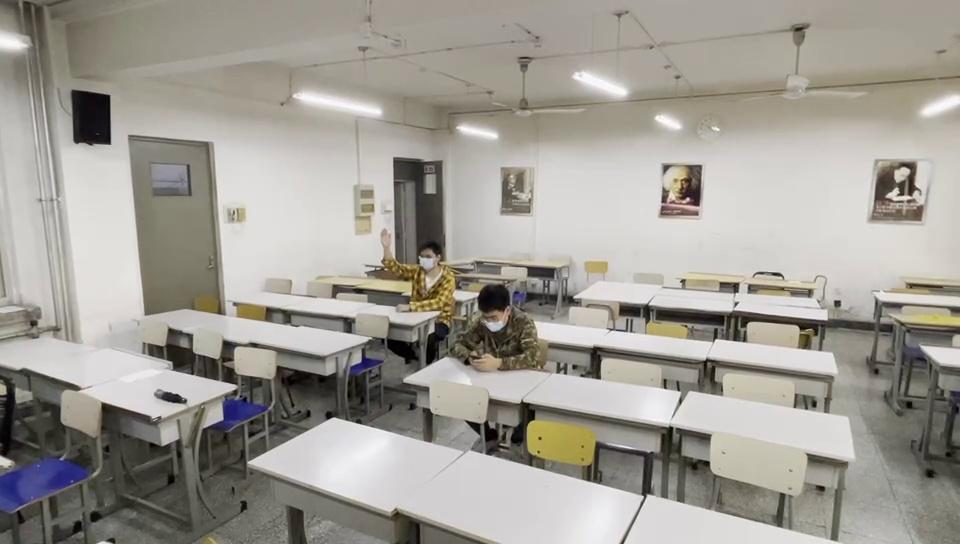phone: (458, 286, 538, 371)
study: (374, 222, 458, 310)
